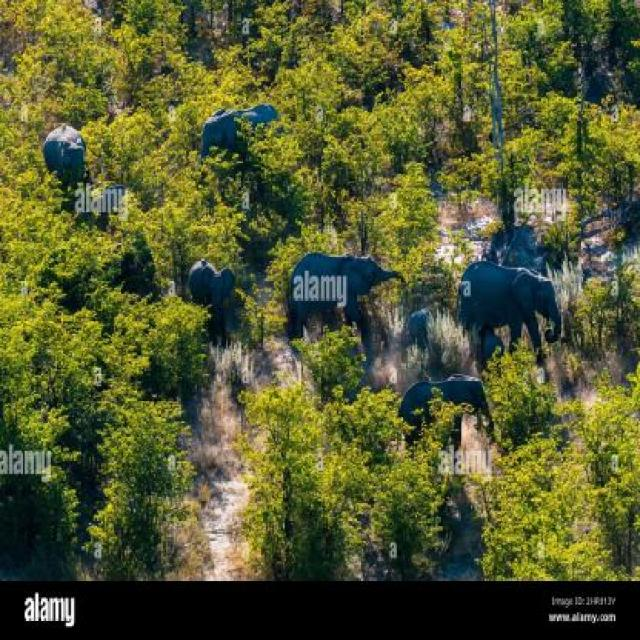elephant: (438, 239, 574, 367), (284, 251, 416, 320), (184, 105, 285, 162), (400, 370, 494, 428), (186, 254, 254, 324), (34, 116, 88, 189)
